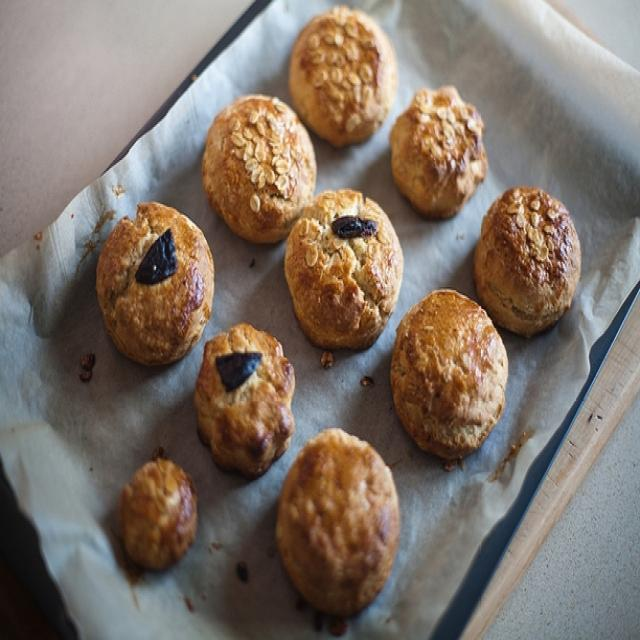面包点心: (38, 5, 612, 621)
